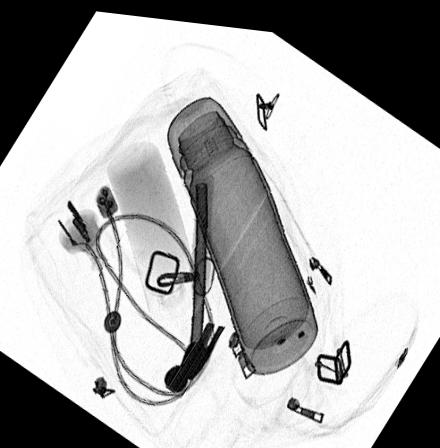Hammer: (163, 166, 223, 389)
